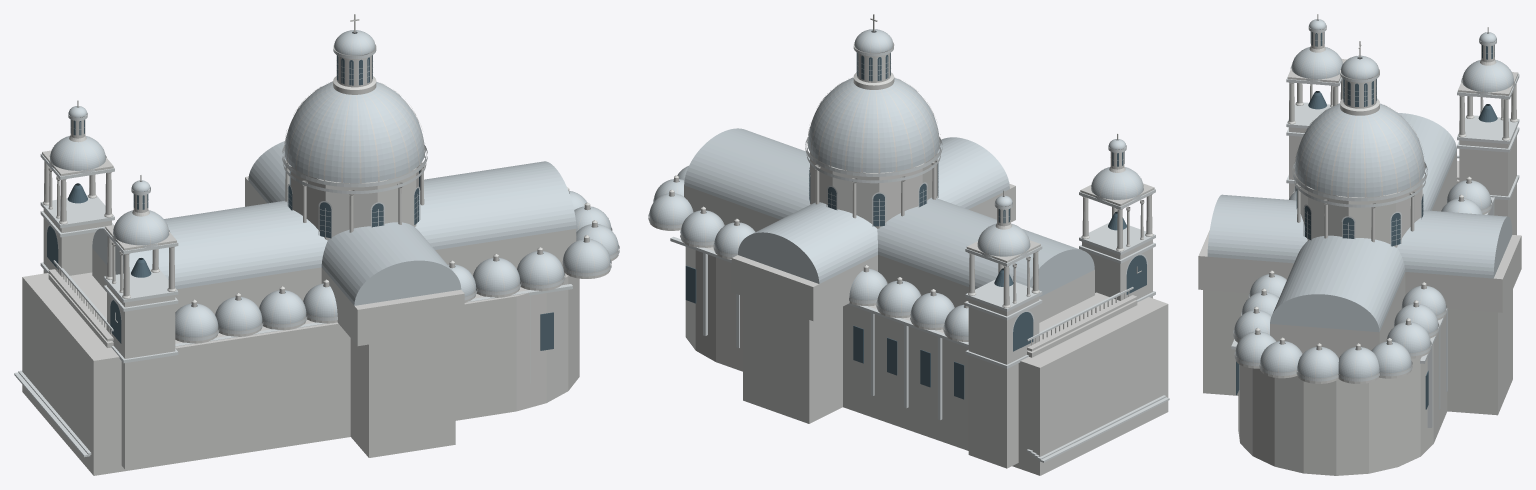
The model's file is paola-church.glb.
The picture shows the model from 3 angles, left to right: view 1: azimuth 30°, elevation 25°; view 2: azimuth 150°, elevation 25°; view 3: azimuth 270°, elevation 25°; orthographic projection. The views are drawn at different scales.
Visible parts, largest first — view 1: Kirchenbau mit runder Apsis, Kreuzfoermige Tonnengewoelbe, Grosse Mittelkuppel mit Laterne, Glockenturm rechts mit Uhr, Seitenschiffe mit kleinen Kuppeln, Glockenturm links, Saeulenportikus und Treppe; view 2: Kirchenbau mit runder Apsis, Kreuzfoermige Tonnengewoelbe, Grosse Mittelkuppel mit Laterne, Glockenturm links, Seitenschiffe mit kleinen Kuppeln, Glockenturm rechts mit Uhr, Saeulenportikus und Treppe; view 3: Kreuzfoermige Tonnengewoelbe, Kirchenbau mit runder Apsis, Grosse Mittelkuppel mit Laterne, Seitenschiffe mit kleinen Kuppeln, Glockenturm links, Glockenturm rechts mit Uhr.
Part boxes in pixels (x1,y1,x2,y2): Kirchenbau mit runder Apsis: (22, 273, 579, 475); Kreuzfoermige Tonnengewoelbe: (92, 141, 576, 345); Grosse Mittelkuppel mit Laterne: (282, 14, 427, 240); Glockenturm rechts mit Uhr: (104, 175, 178, 469); Seitenschiffe mit kleinen Kuppeln: (175, 187, 619, 343); Glockenturm links: (40, 100, 114, 276); Saeulenportikus und Treppe: (14, 260, 113, 457); Kirchenbau mit runder Apsis: (670, 236, 1168, 475); Kreuzfoermige Tonnengewoelbe: (684, 128, 1094, 322); Grosse Mittelkuppel mit Laterne: (805, 14, 942, 228); Glockenturm links: (965, 190, 1042, 468); Seitenschiffe mit kleinen Kuppeln: (648, 166, 968, 341); Glockenturm rechts mit Uhr: (1079, 133, 1155, 302); Saeulenportikus und Treppe: (1026, 287, 1169, 462); Kreuzfoermige Tonnengewoelbe: (1198, 113, 1521, 357); Kirchenbau mit runder Apsis: (1203, 160, 1512, 475); Grosse Mittelkuppel mit Laterne: (1292, 41, 1427, 247); Seitenschiffe mit kleinen Kuppeln: (1233, 176, 1492, 383); Glockenturm links: (1457, 27, 1519, 235); Glockenturm rechts mit Uhr: (1286, 14, 1347, 198).
Size of the model in its own units: 90.79 by 61.5 by 52.23.
